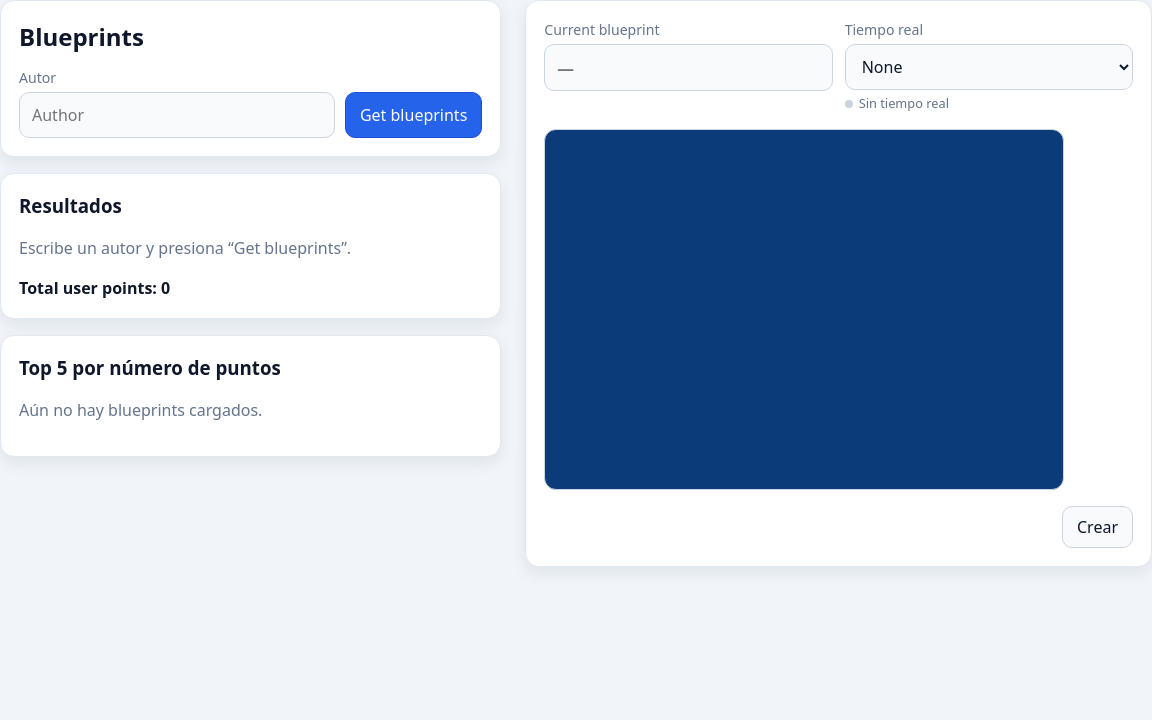
Test: BlueprintsPage › Open actualiza el nombre del plano actual (estado global) y lo grafica
Step 1. Type "jane" into the field with placeholder "Author" → {"x": 177, "y": 115}, box [19,92,335,138]
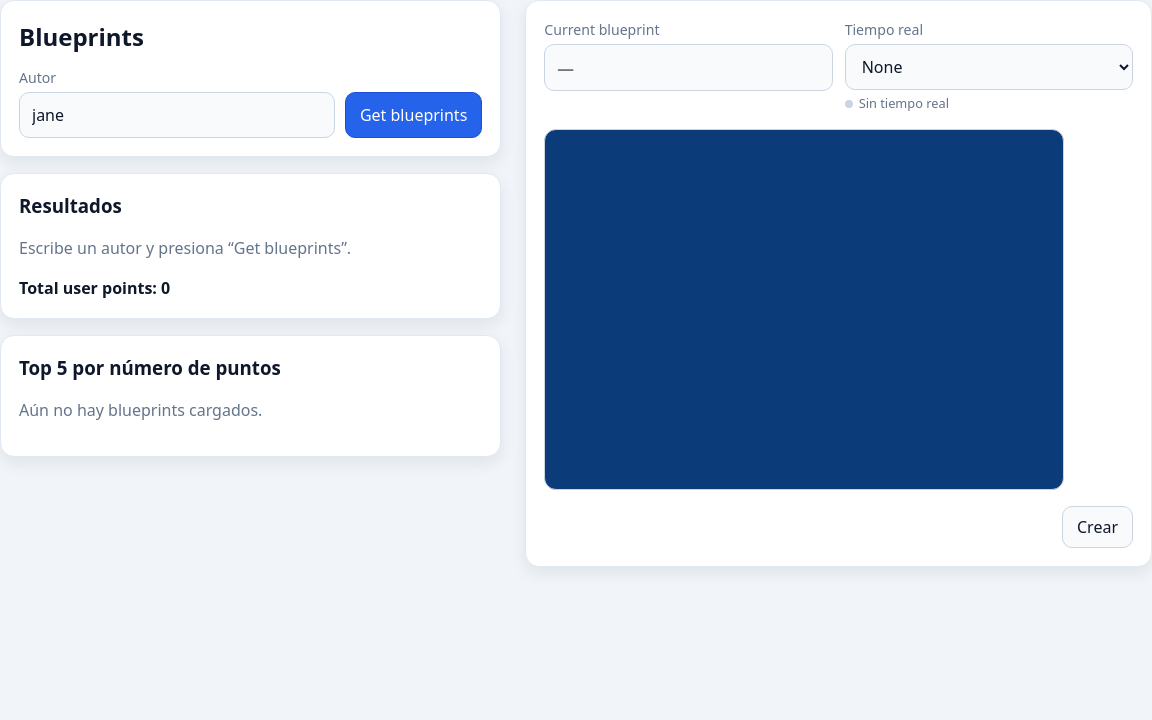
Step 2. Click the button "Get blueprints" → {"x": 414, "y": 115}, box [345,92,482,138]
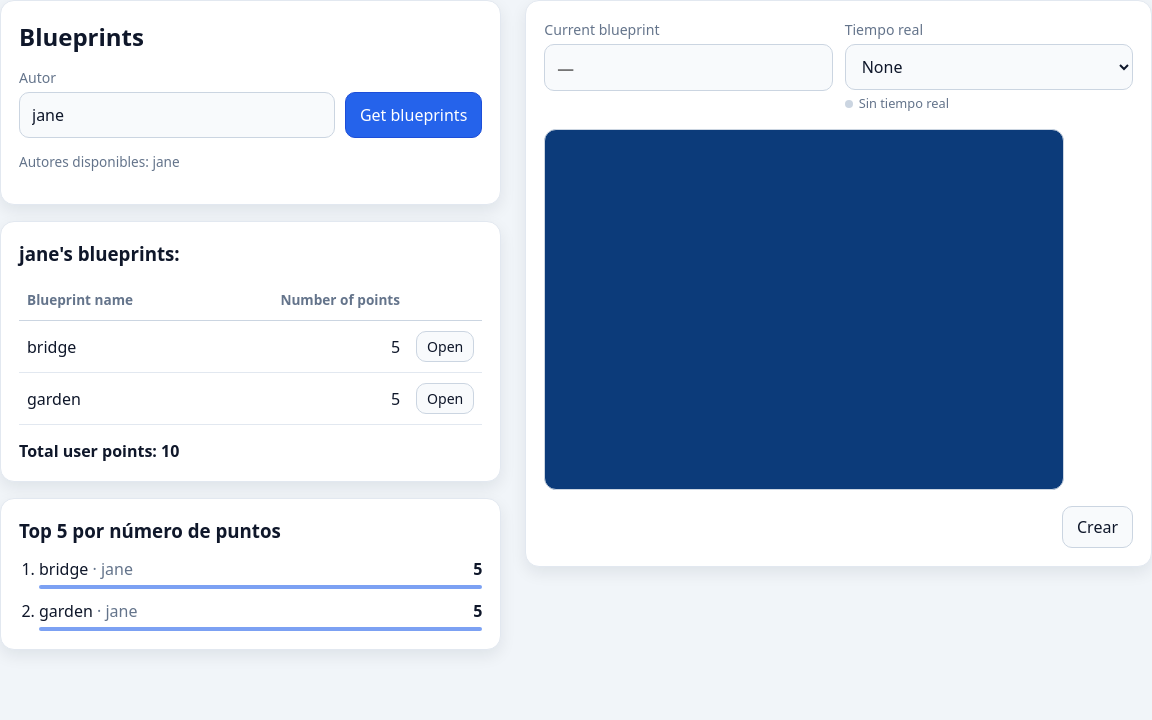
Step 3. Click the button with aria-label "Open garden" → {"x": 445, "y": 399}, box [416,383,474,414]
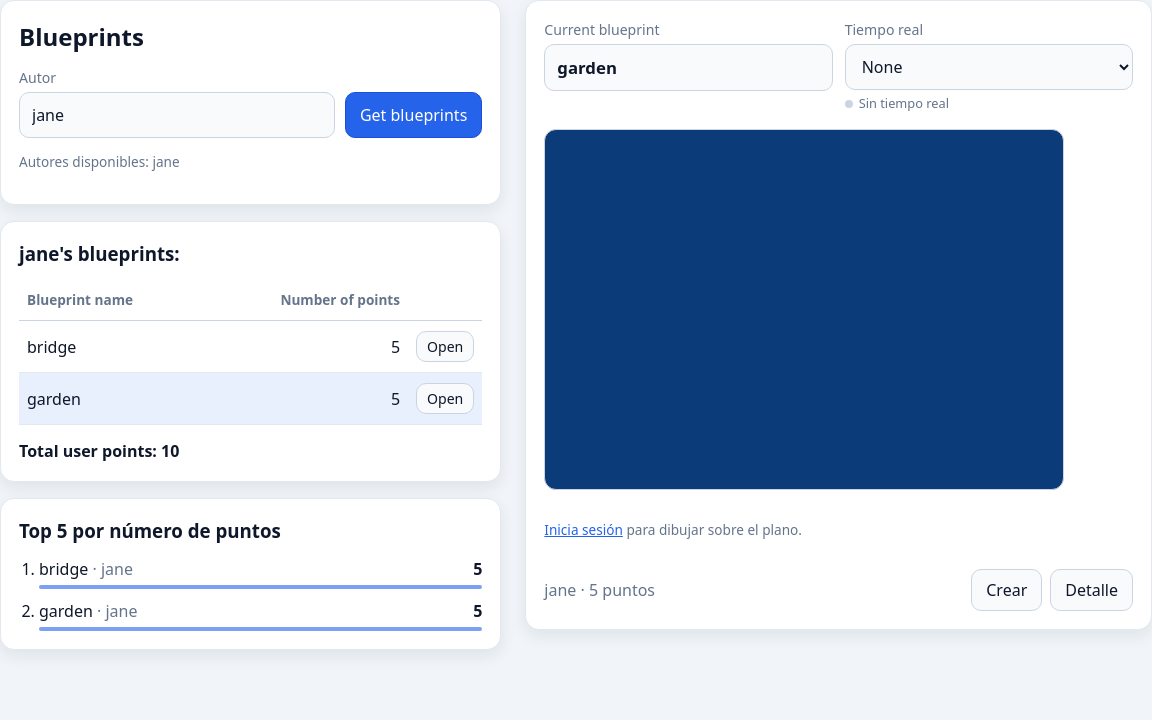
Expected: the cell "garden" is shown, [19,373,203,425]
Expected: the field labelled "Current blueprint" holds "garden", [544,44,833,91]
